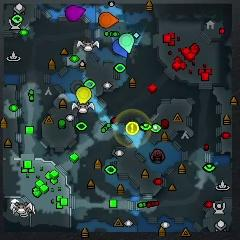Other: (126, 121, 139, 135)
p1: (113, 40, 128, 58)
p2: (119, 34, 135, 54)
p3: (66, 5, 85, 21)
p4: (76, 87, 92, 103)
p5: (99, 13, 119, 29)
